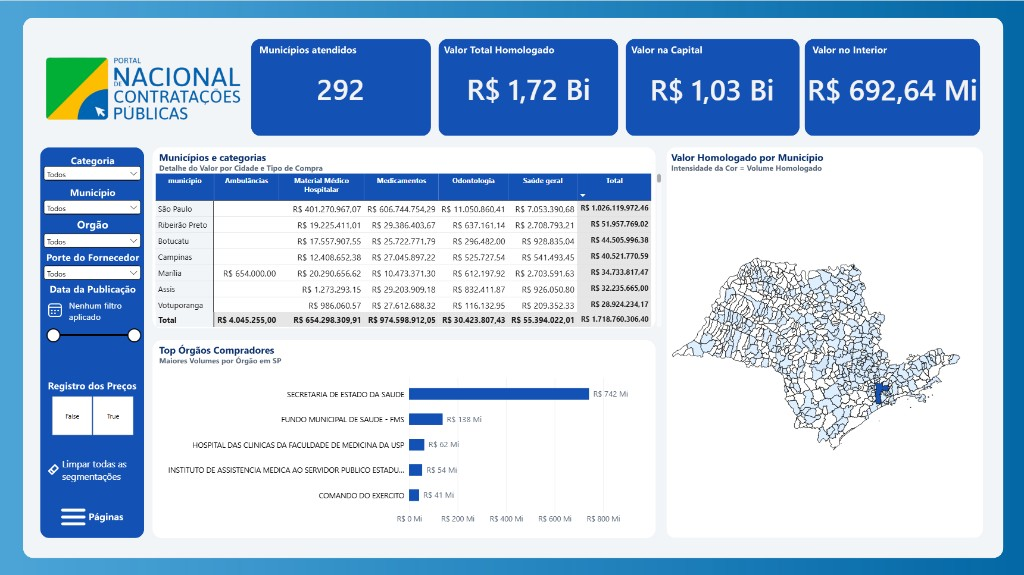

Layout of this report page (visuals, bound fields, positions):
{"tool":"powerbi","page":{"name":"Geografia (SP)","canvas":[1920,1080],"ordinal":2},"visuals":[{"type":"shapeMap","fields":{"Category":["pncp vw_analitica.codigo_ibge"],"Value":["Medidas.Valor Homologado"]},"box":[1240,318,598,682],"z":0},{"type":"clusteredBarChart","fields":{"Category":["pncp vw_analitica.orgao"],"Y":["Sum(pncp vw_analitica.valor_total_homologado)"]},"box":[288.1,683.4,935.4,315.7],"z":1000},{"type":"pivotTable","fields":{"Columns":["pncp vw_analitica.Categoria Label"],"Rows":["pncp vw_analitica.municipio"],"Values":["Sum(pncp vw_analitica.valor_total_homologado)"]},"box":[276.6,308.4,975.9,317.1],"z":2000},{"type":"cardVisual","fields":{"Data":["Medidas.Municipios Atendidos"]},"box":[473,72.6,329.3,181.4],"z":3000},{"type":"cardVisual","fields":{"Data":["Medidas.Valor Homologado"]},"box":[821.7,71.7,333.1,181.8],"z":4000},{"type":"cardVisual","fields":{"Data":["Medidas.Valor Homologado"]},"box":[1489.4,77.6,358.8,172.8],"z":5000},{"type":"cardVisual","fields":{"Data":["Medidas.Valor Homologado"]},"box":[1171.7,73.3,318.3,181.7],"z":6000},{"type":"slicer","fields":{"Values":["pncp vw_analitica.Categoria Label"]},"box":[78.5,304,190.5,66.9],"z":7000},{"type":"slicer","fields":{"Values":["pncp vw_analitica.municipio"]},"box":[78.5,368,190.5,66.9],"z":8000},{"type":"slicer","fields":{"Values":["pncp vw_analitica.orgao"]},"box":[78.5,430.5,190.5,52.4],"z":9000},{"type":"slicer","fields":{"Values":["pncp vw_analitica.porte_fornecedor"]},"box":[78.5,490.2,190.5,55.3],"z":10000},{"type":"slicer","fields":{"Values":["pncp vw_analitica.data_publicacao"]},"box":[78.5,554.2,190.5,170.2],"z":11000},{"type":"slicer","fields":{"Values":["pncp vw_analitica.registro_precos"]},"box":[78.5,737.5,190.5,75.6],"z":12000},{"type":"actionButton","box":[112.6,942.1,123.2,41.1],"z":13000},{"type":"actionButton","box":[80,834.9,189.1,85.8],"z":15000}]}

Visuals, with their boxes in screenshot pixels (x1, y1, x2, y2), scaled from the page's 1920x1080 canvas onto the 1024x575 screenshot:
shapeMap - pncp vw_analitica.codigo_ibge x Medidas.Valor Homologado: <region>661, 169, 980, 532</region>
clusteredBarChart - pncp vw_analitica.orgao x Sum(pncp vw_analitica.valor_total_homologado): <region>154, 364, 653, 532</region>
pivotTable - pncp vw_analitica.Categoria Label x pncp vw_analitica.municipio: <region>148, 164, 668, 333</region>
cardVisual - Medidas.Municipios Atendidos: <region>252, 39, 428, 135</region>
cardVisual - Medidas.Valor Homologado: <region>438, 38, 616, 135</region>
cardVisual - Medidas.Valor Homologado: <region>794, 41, 986, 133</region>
cardVisual - Medidas.Valor Homologado: <region>625, 39, 795, 136</region>
slicer - pncp vw_analitica.Categoria Label: <region>42, 162, 143, 197</region>
slicer - pncp vw_analitica.municipio: <region>42, 196, 143, 232</region>
slicer - pncp vw_analitica.orgao: <region>42, 229, 143, 257</region>
slicer - pncp vw_analitica.porte_fornecedor: <region>42, 261, 143, 290</region>
slicer - pncp vw_analitica.data_publicacao: <region>42, 295, 143, 386</region>
slicer - pncp vw_analitica.registro_precos: <region>42, 393, 143, 433</region>
actionButton: <region>60, 502, 126, 523</region>
actionButton: <region>43, 445, 144, 490</region>
